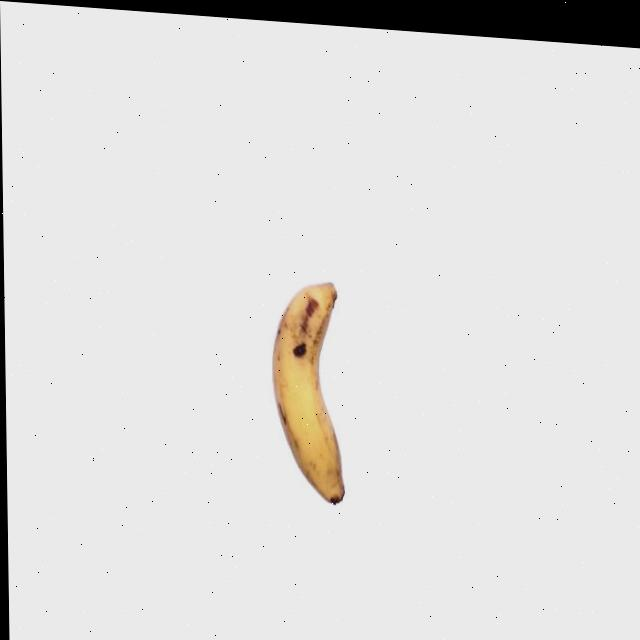banana: (267, 274, 350, 507)
